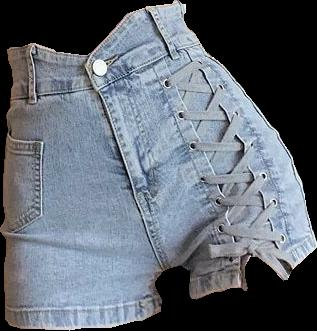Hemline: (6, 1, 181, 56)
Pantleg: (86, 0, 316, 298), (0, 43, 164, 329)
